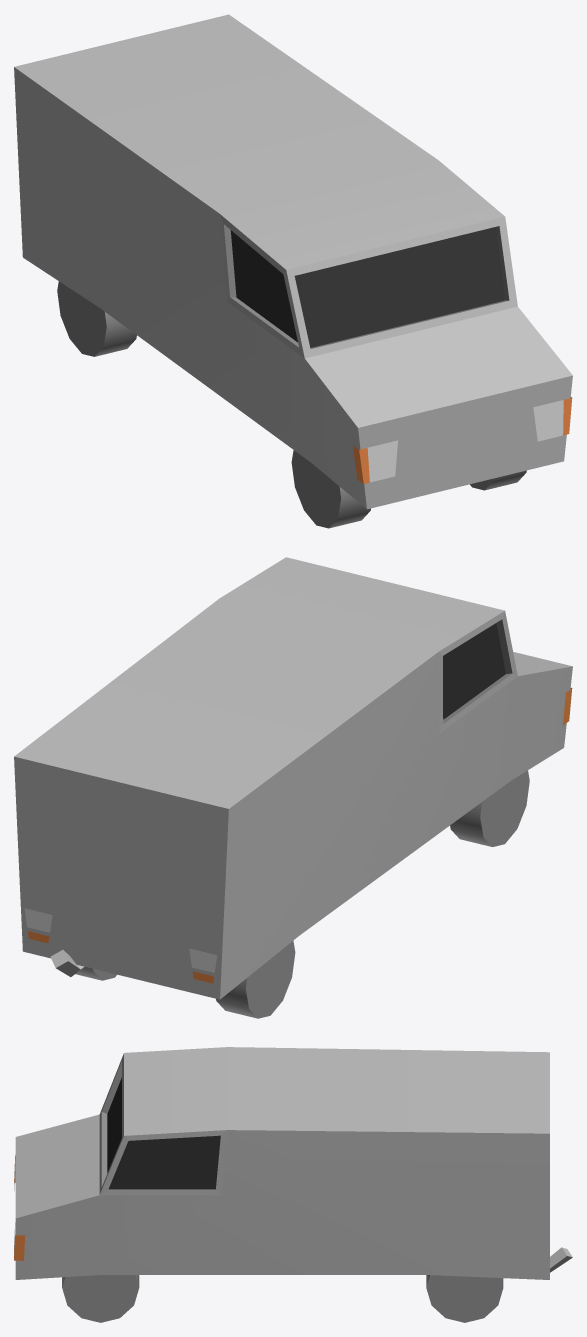
Rendered from van_08.fbx.
The picture shows the model from 3 angles, top to bottom: view 1: azimuth 30°, elevation 25°; view 2: azimuth 150°, elevation 25°; view 3: azimuth 270°, elevation 25°; orthographic projection. The views are drawn at different scales.
Visible parts, largest first — view 1: van_08; view 2: van_08; view 3: van_08.
Boxes of the visible parts, x1,y1,x2,y2 form: van_08: (14, 14, 572, 528); van_08: (14, 557, 572, 1018); van_08: (14, 1047, 572, 1322).
Size of the model in its own units: 1.61 by 1.8 by 4.59.
